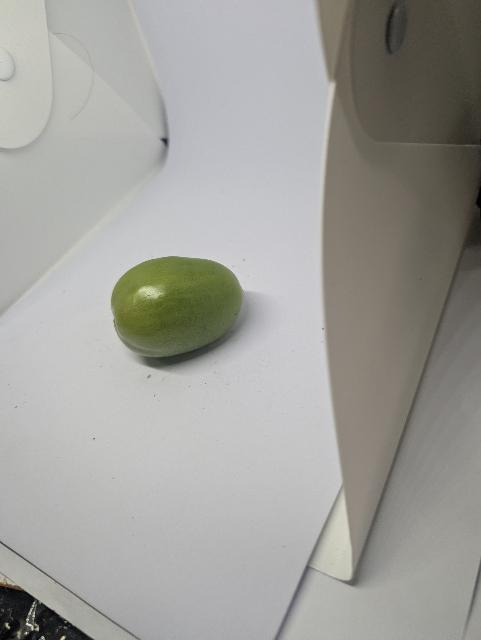green: (100, 235, 277, 377)
